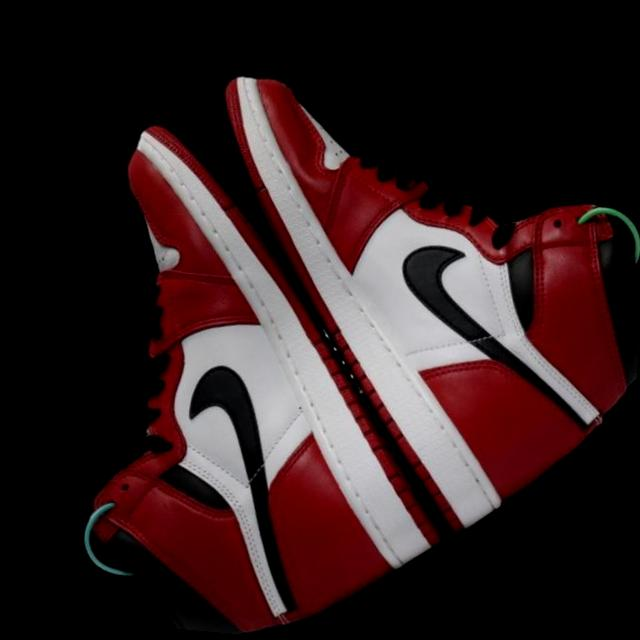nike_original_jordan: (153, 0, 640, 557), (0, 86, 489, 640)
